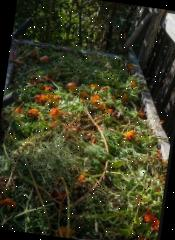organic: (20, 132, 96, 187)
